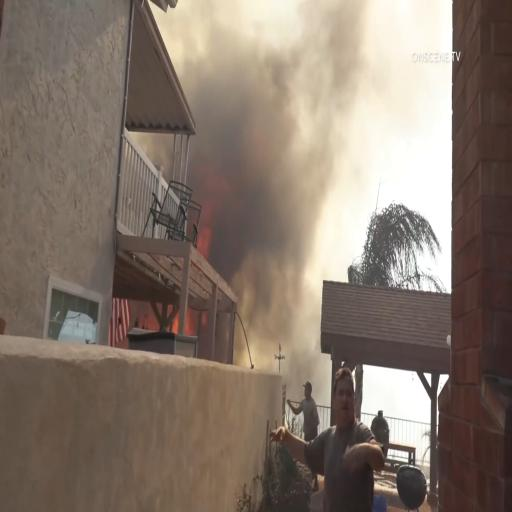fire: (190, 154, 210, 255)
smoke: (212, 0, 364, 260), (236, 262, 318, 336)
